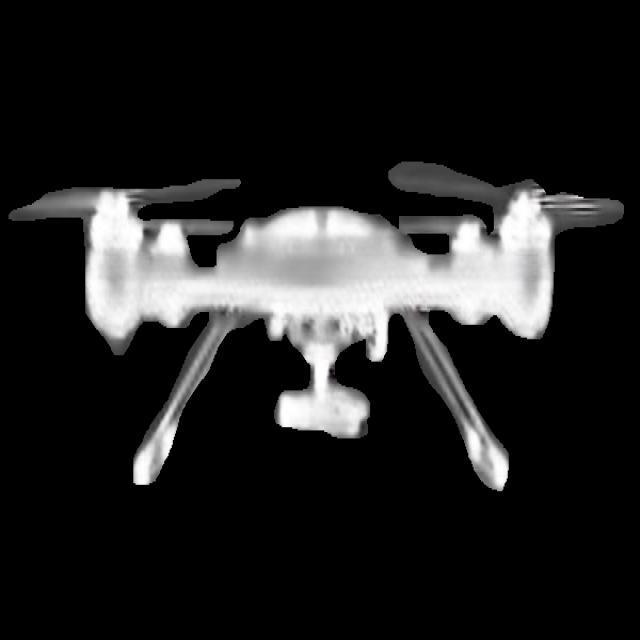drone: (6, 142, 632, 500)
